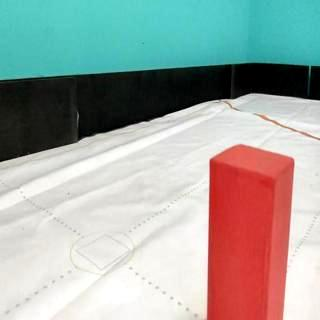redbox: (209, 144, 295, 320)
